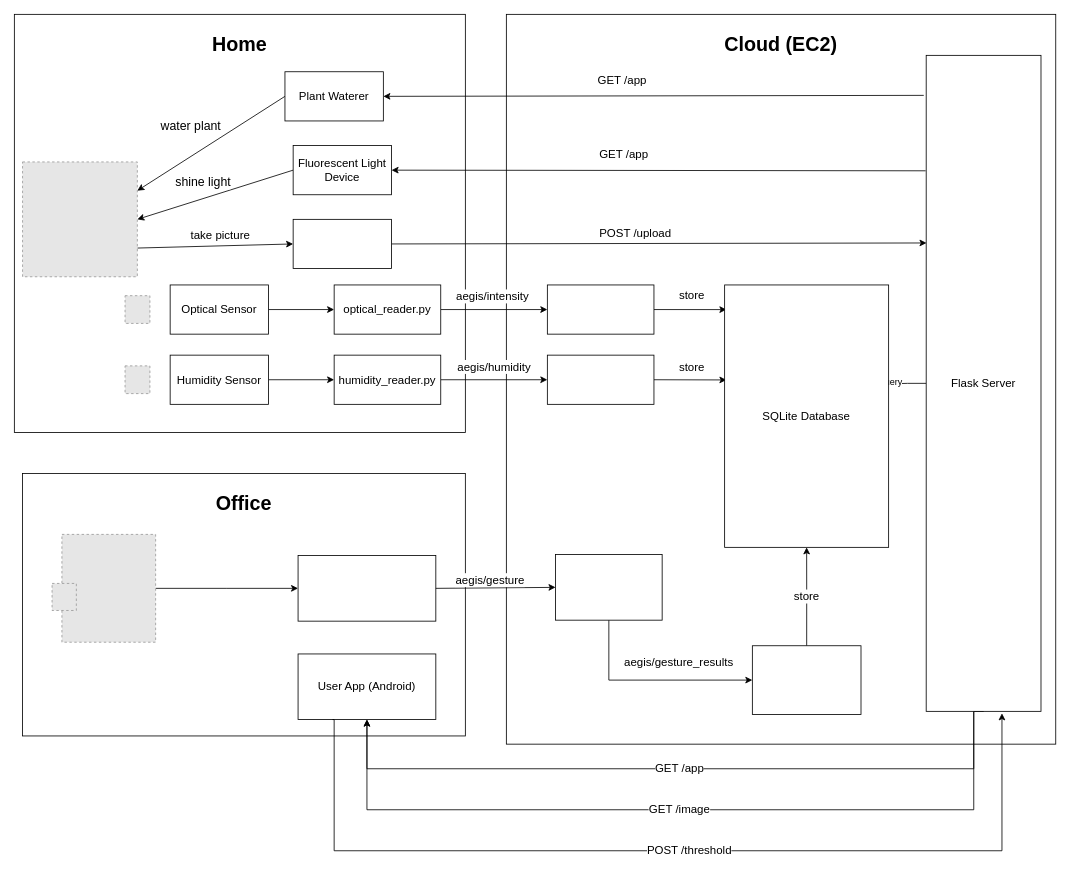
Image size: 1070x872. Some labels were removed from this diagram. Grey dashed boxes stand in for pictures. Here are the shapes that lost their labels. From the top down, the box of each, then its label:
(292, 219, 392, 269): Camera
(547, 284, 654, 334): optical_broker.py
(547, 354, 654, 404): humidity_broker.py
(297, 555, 436, 621): gesture_reader.py
(555, 554, 662, 620): classifier.py
(752, 645, 861, 714): gesture_broker.py
